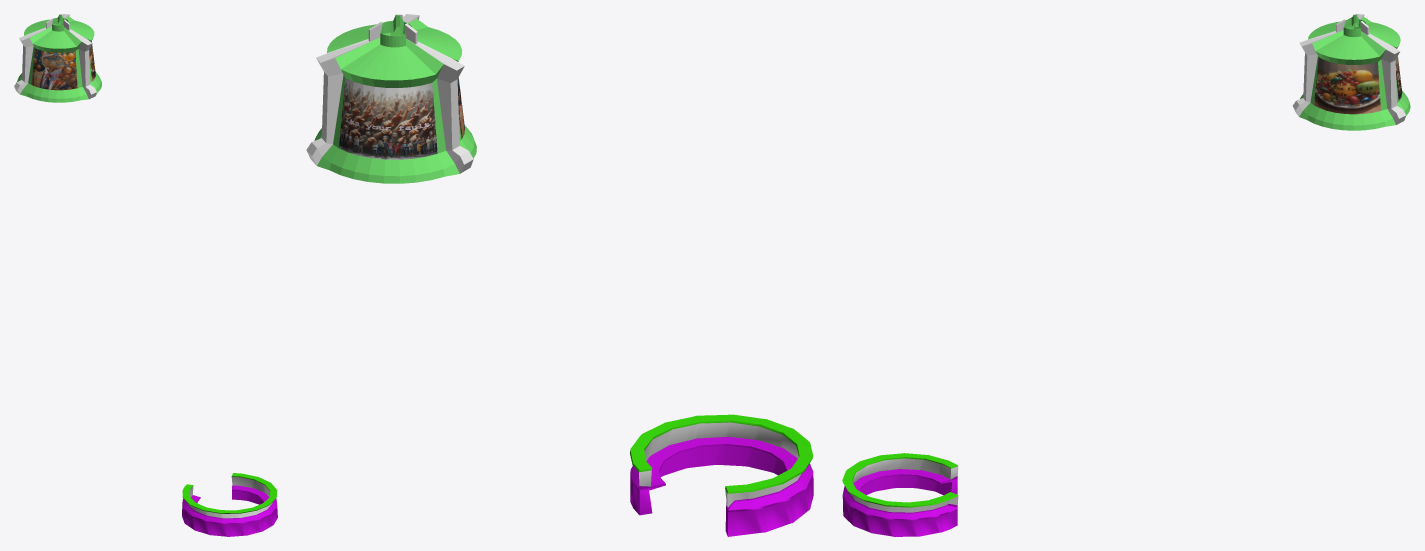
File: Kiosk.glb
3 views of the same model, side by side, from view 1: azimuth 30°, elevation 25°; view 2: azimuth 150°, elevation 25°; view 3: azimuth 270°, elevation 25° (orthographic). The views are drawn at different scales.
Visible parts, largest first — view 1: MarkeeTop, Desk; view 2: MarkeeTop, Desk; view 3: MarkeeTop, Desk.
Part boxes in pixels (<box>): MarkeeTop: <box>14,14,101,102</box>; Desk: <box>182,473,277,536</box>; MarkeeTop: <box>306,14,476,183</box>; Desk: <box>630,414,813,536</box>; MarkeeTop: <box>1292,14,1410,130</box>; Desk: <box>842,453,958,536</box>.
Bounding box in the file's own units: 14.58 × 62.86 × 65.8.
Materials: 8 (3 with a texture image).
